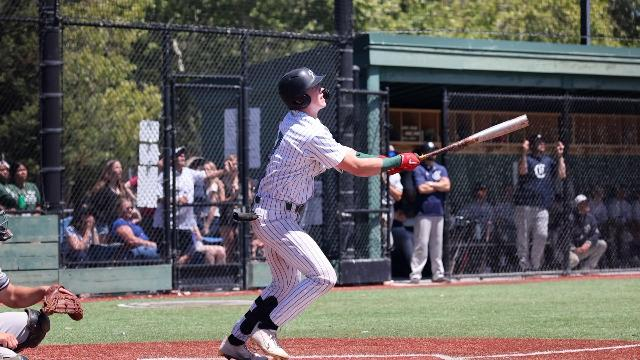bat: (418, 114, 532, 160)
